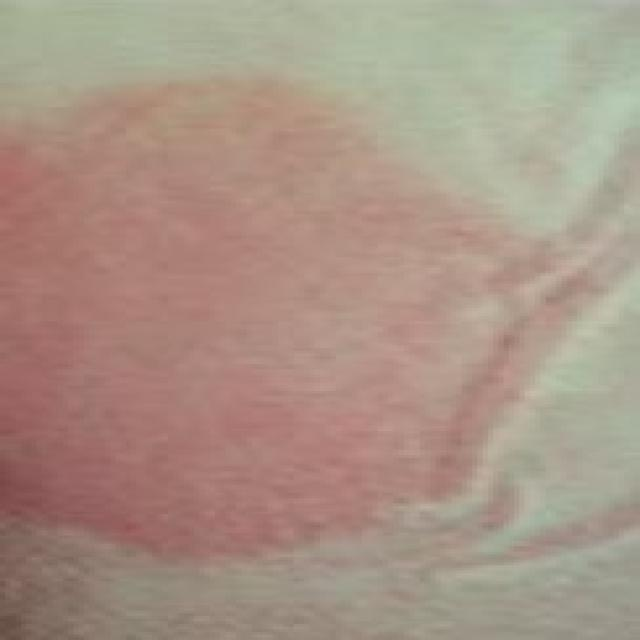stage-1: (0, 84, 592, 560)
